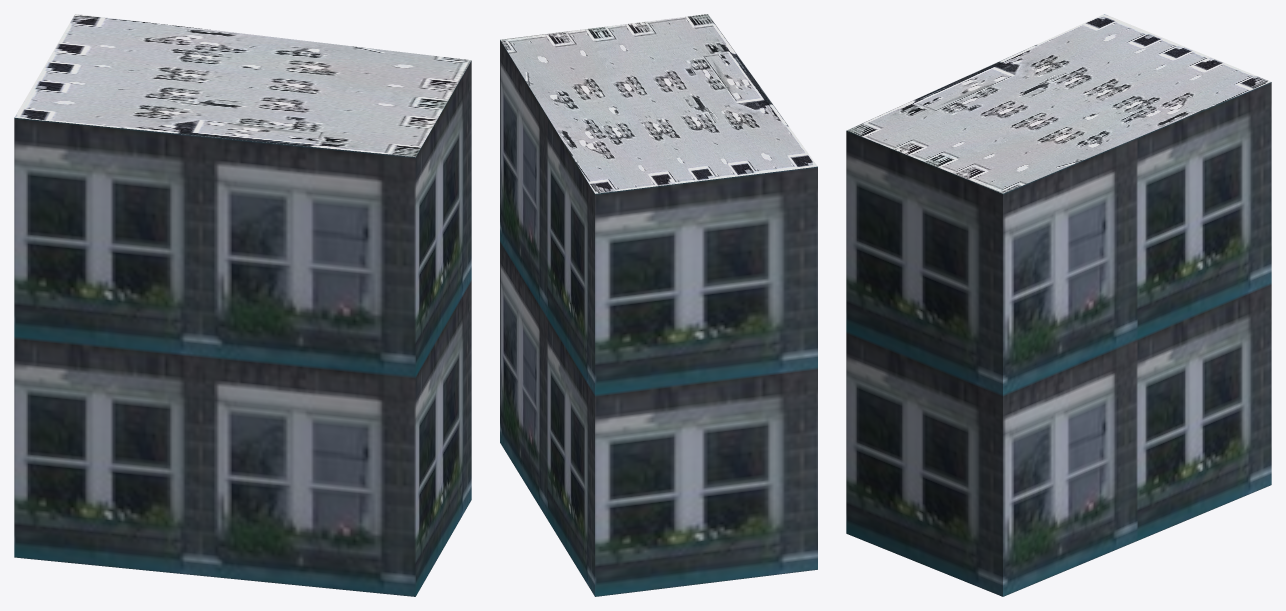
The model's file is ResTex__1800.fbx.
The picture shows the model from 3 angles, left to right: view 1: azimuth 30°, elevation 25°; view 2: azimuth 150°, elevation 25°; view 3: azimuth 270°, elevation 25°; orthographic projection. The views are drawn at different scales.
Parts seen in each view (by area): view 1: CityEngineMaterial_11_m, CityEngineMaterial_m; view 2: CityEngineMaterial_11_m, CityEngineMaterial_m; view 3: CityEngineMaterial_11_m, CityEngineMaterial_m.
Part boxes in pixels (box(x1,y1,x2,y2)): CityEngineMaterial_11_m: box(14, 60, 471, 596); CityEngineMaterial_m: box(14, 14, 471, 157); CityEngineMaterial_11_m: box(500, 40, 817, 596); CityEngineMaterial_m: box(500, 14, 817, 193); CityEngineMaterial_11_m: box(846, 82, 1271, 596); CityEngineMaterial_m: box(847, 14, 1270, 193).
Size of the model in its own units: 5.74 by 6 by 5.73.
Materials: 2 (2 with a texture image).
